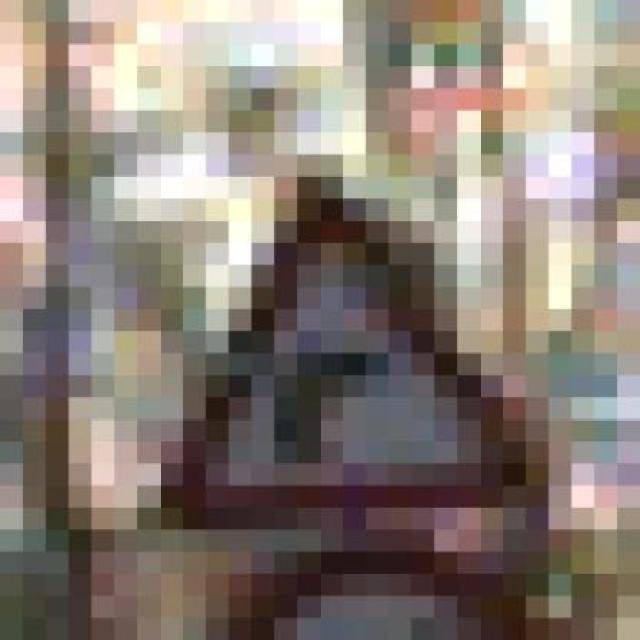Dangerous Rright Curve Ahead: (91, 155, 572, 530)
